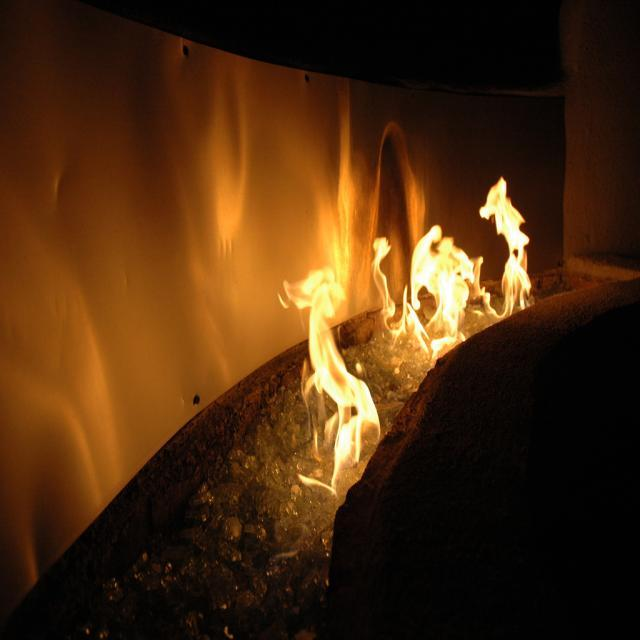Fire: (318, 357, 366, 453), (422, 241, 470, 335), (498, 186, 531, 300)
